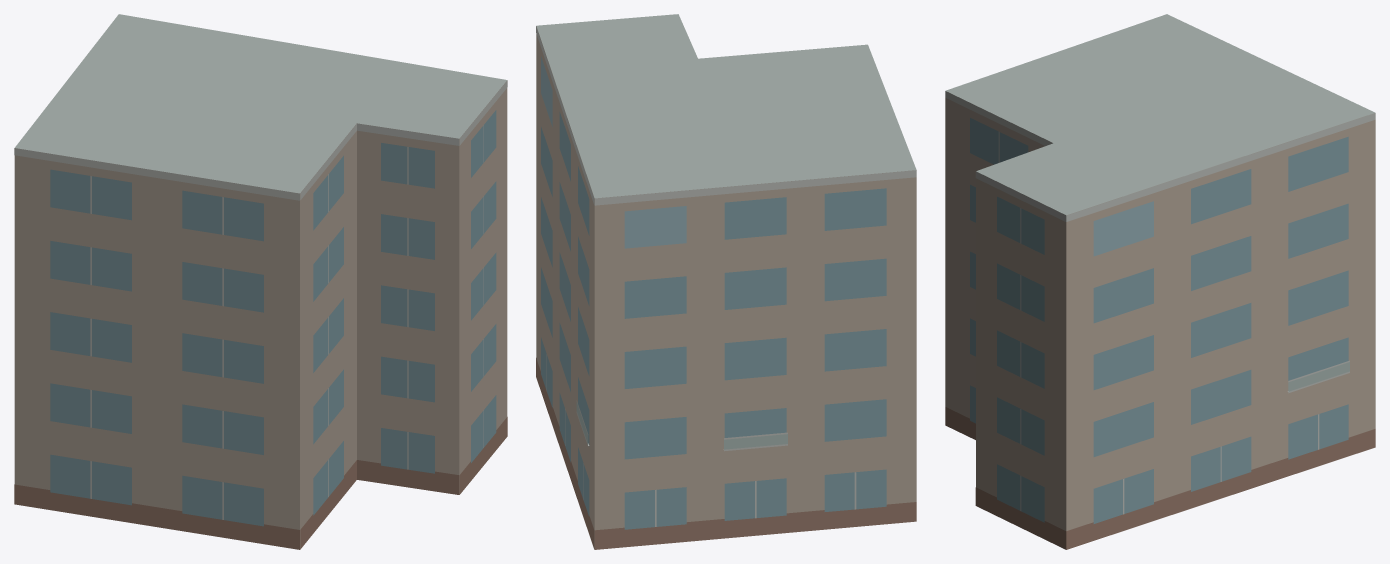
The model's file is survey-upis-32907021.glb.
3 renders of one model, left to right at view 1: azimuth 30°, elevation 25°; view 2: azimuth 150°, elevation 25°; view 3: azimuth 270°, elevation 25°, orthographic. The views are drawn at different scales.
Parts seen in each view (by area): view 1: survey-upis-32907021.tmp; view 2: survey-upis-32907021.tmp; view 3: survey-upis-32907021.tmp.
Boxes of the visible parts, x1,y1,x2,y2 form: survey-upis-32907021.tmp: [14, 14, 507, 549]; survey-upis-32907021.tmp: [536, 14, 916, 549]; survey-upis-32907021.tmp: [945, 14, 1375, 549].
Size of the model in its own units: 15.36 by 11.9 by 13.88.
